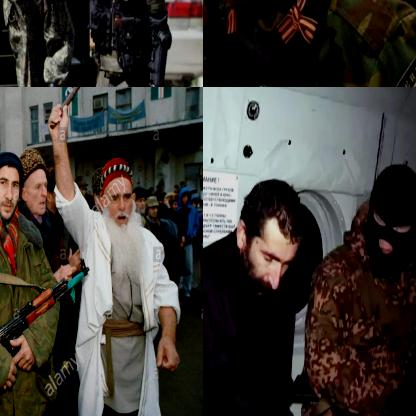rifle: (0, 257, 95, 357)
